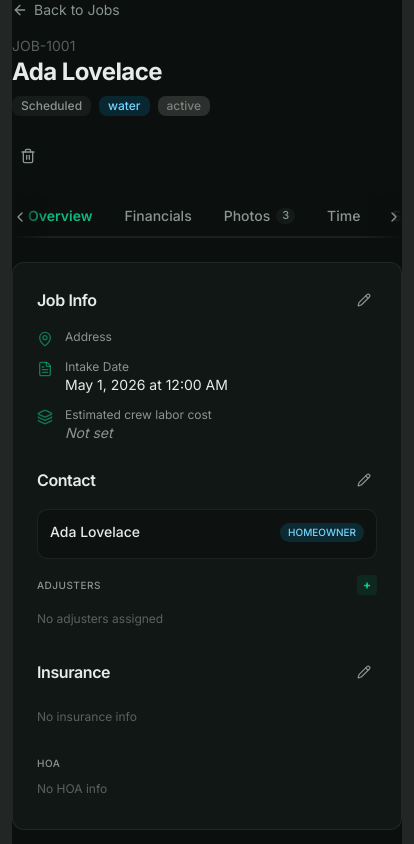
Test case: JobDetail — swipe-to-refresh data preservation (#751) › applies fresh data and does not toast when the reload succeeds
Expected: the button "Photos 3" is shown, [208, 196, 311, 238]
Press the mouse on the text "JOB-1001" at (44, 46), box [12, 37, 75, 54]
Wait 600 ms
(page scrolled)
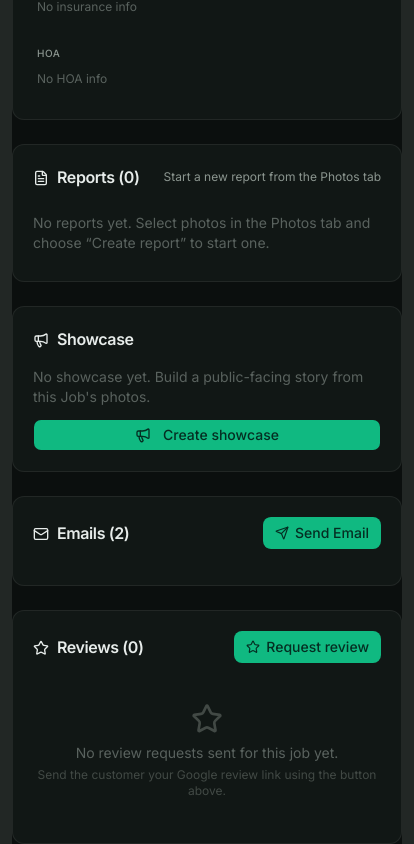
Expected: the heading "Emails (2)" is shown, [33, 521, 129, 545]
